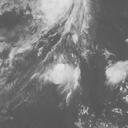cyclone: (43, 63, 80, 89)
